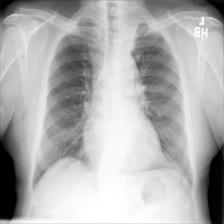normal: (28, 14, 199, 194)
